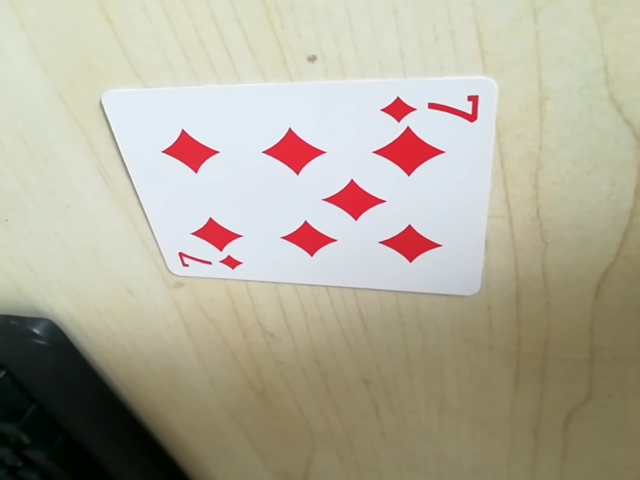fk 7: (379, 86, 484, 128), (169, 248, 248, 279)
